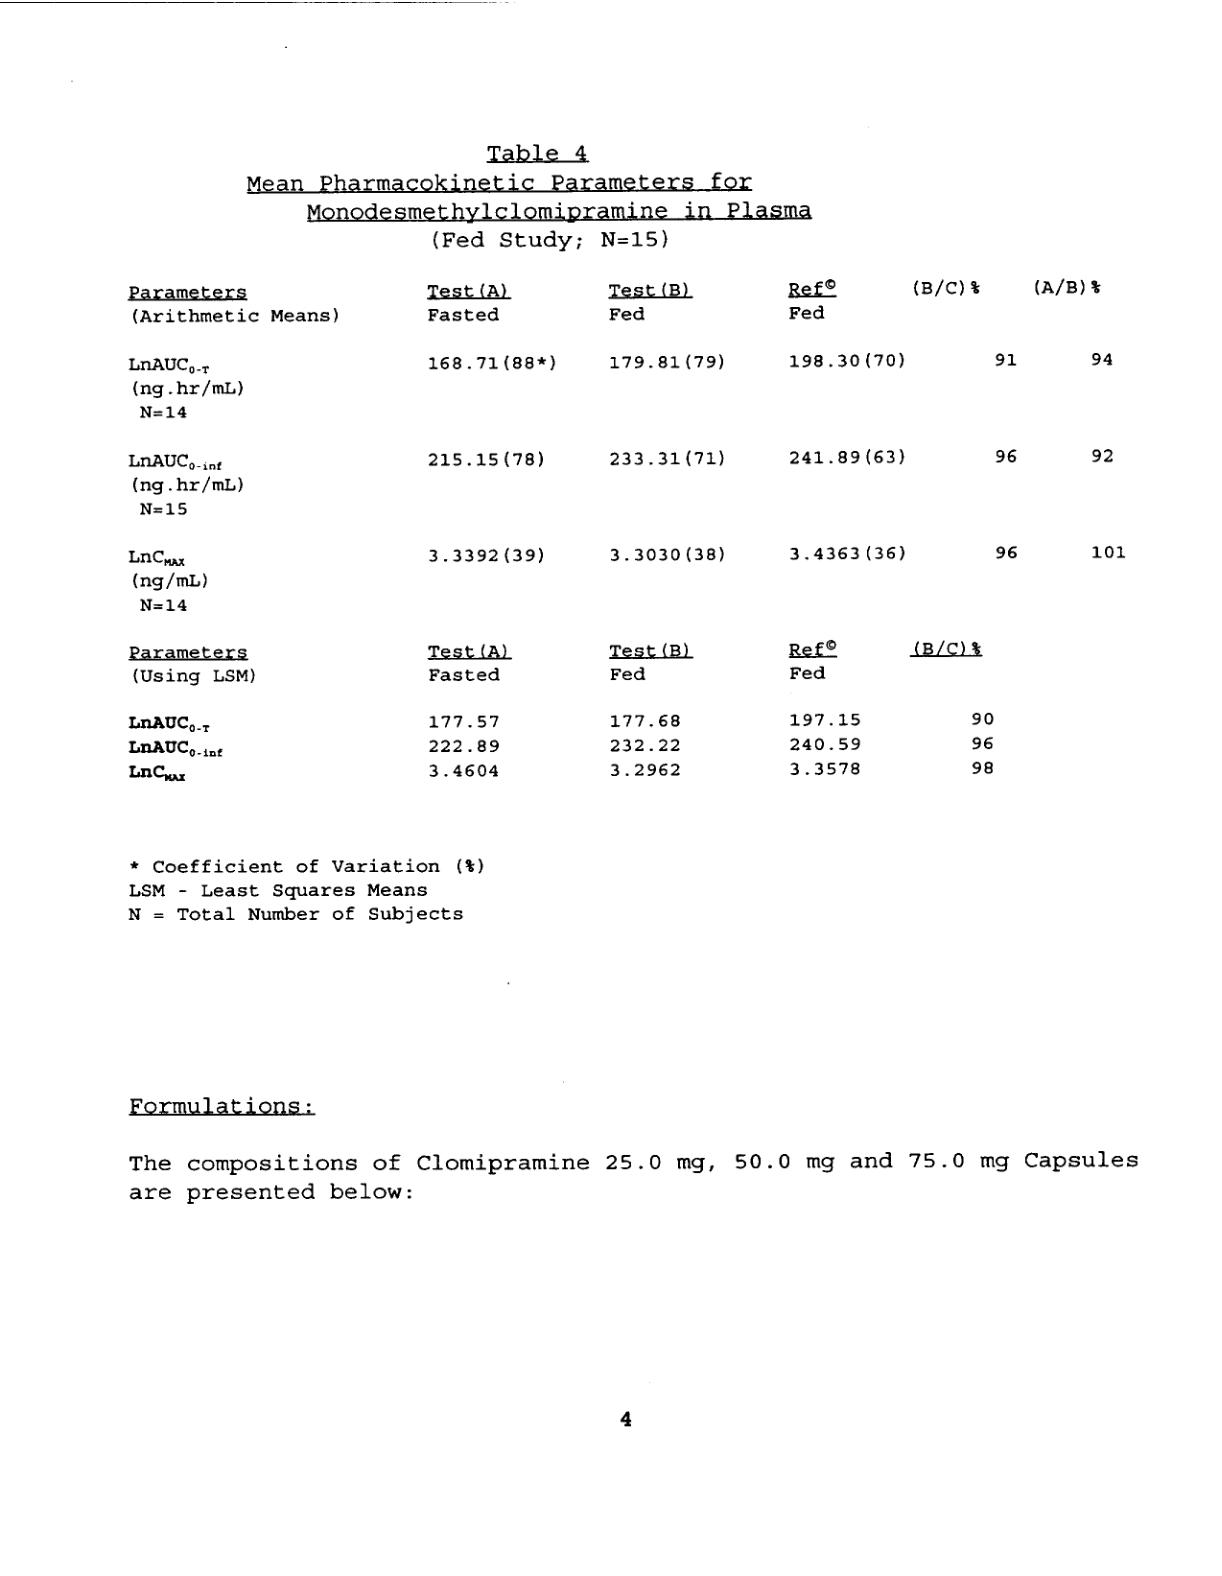nolines: (125, 278, 1127, 784)
